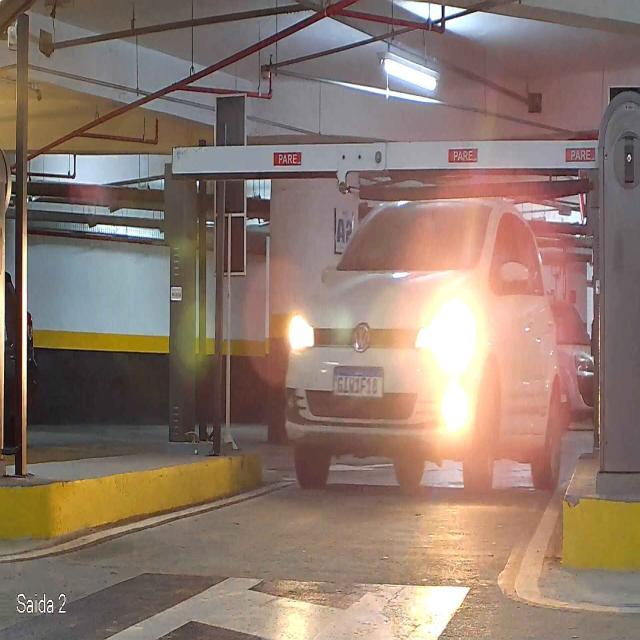mercosul_plate: (331, 364, 386, 400)
